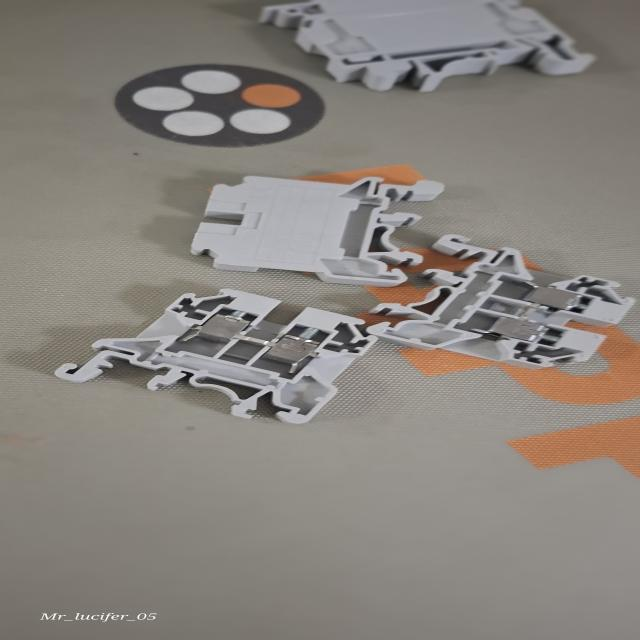Inverted: (178, 159, 454, 292)
Pass: (29, 282, 428, 431), (358, 230, 640, 369)
